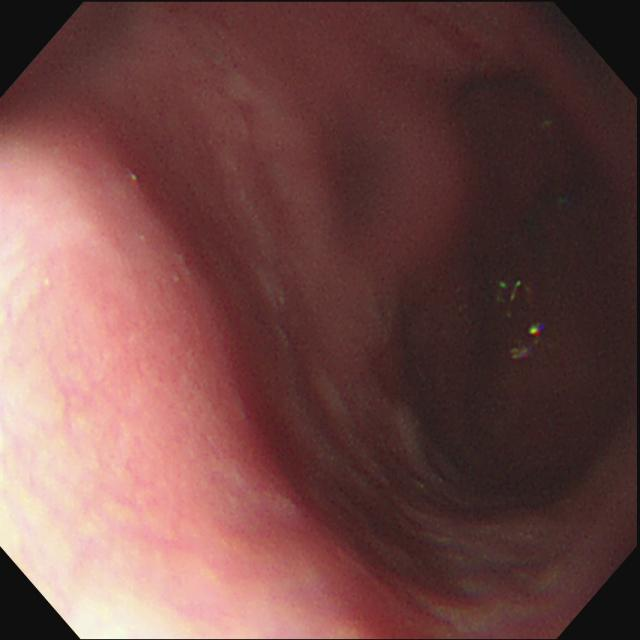U: (527, 322, 544, 343), (513, 346, 529, 360)
